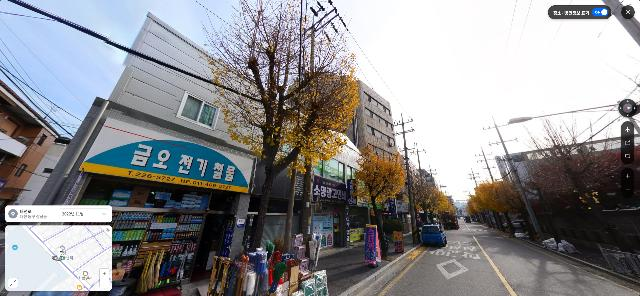ginkgo: (198, 0, 364, 292), (351, 142, 407, 258), (484, 172, 536, 232), (398, 176, 436, 228), (472, 181, 509, 228), (429, 189, 454, 221), (466, 197, 484, 224)
other: (505, 97, 639, 248)
